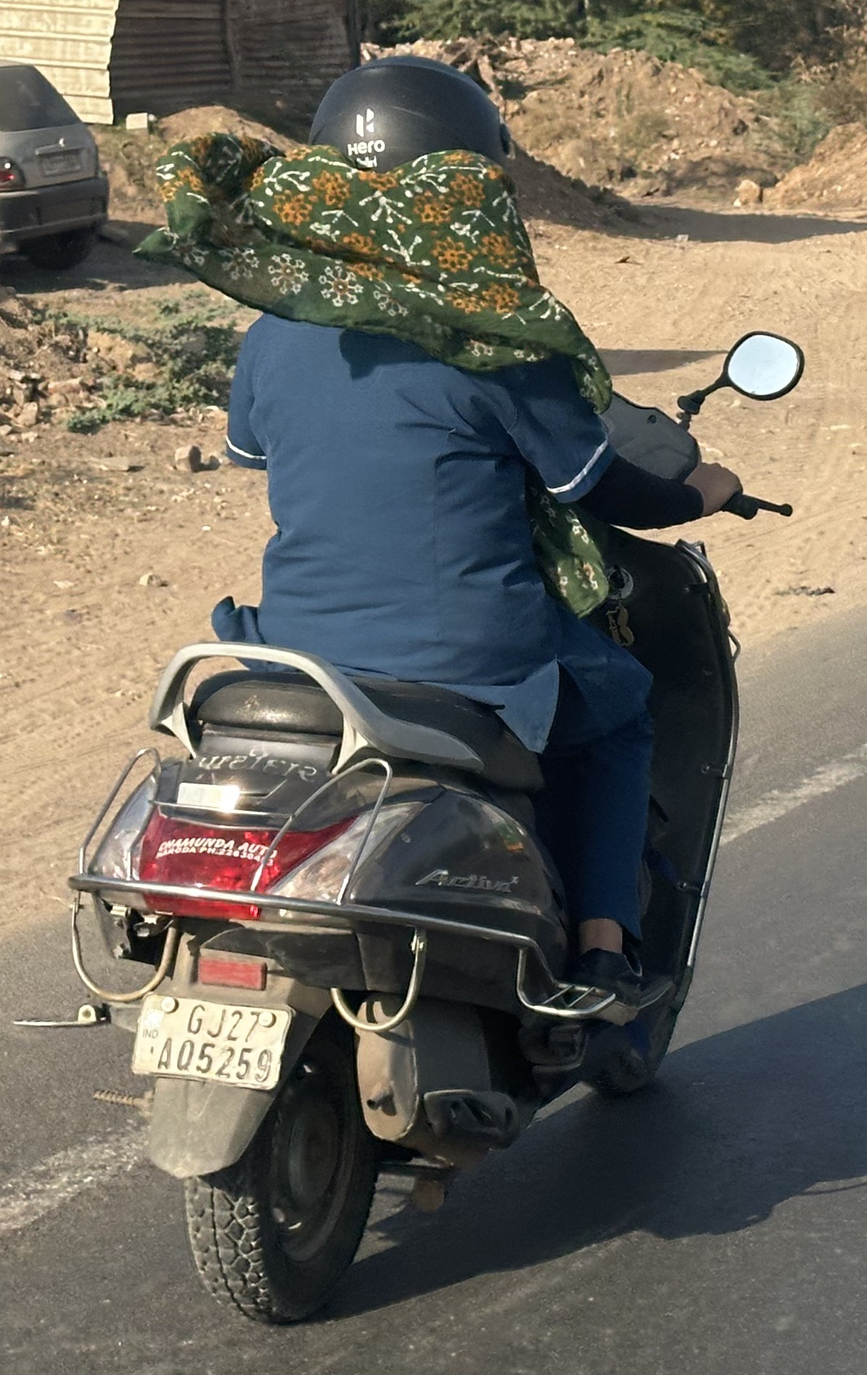BikeWithRider: (33, 46, 819, 1342)
Helmet: (288, 47, 533, 209)
